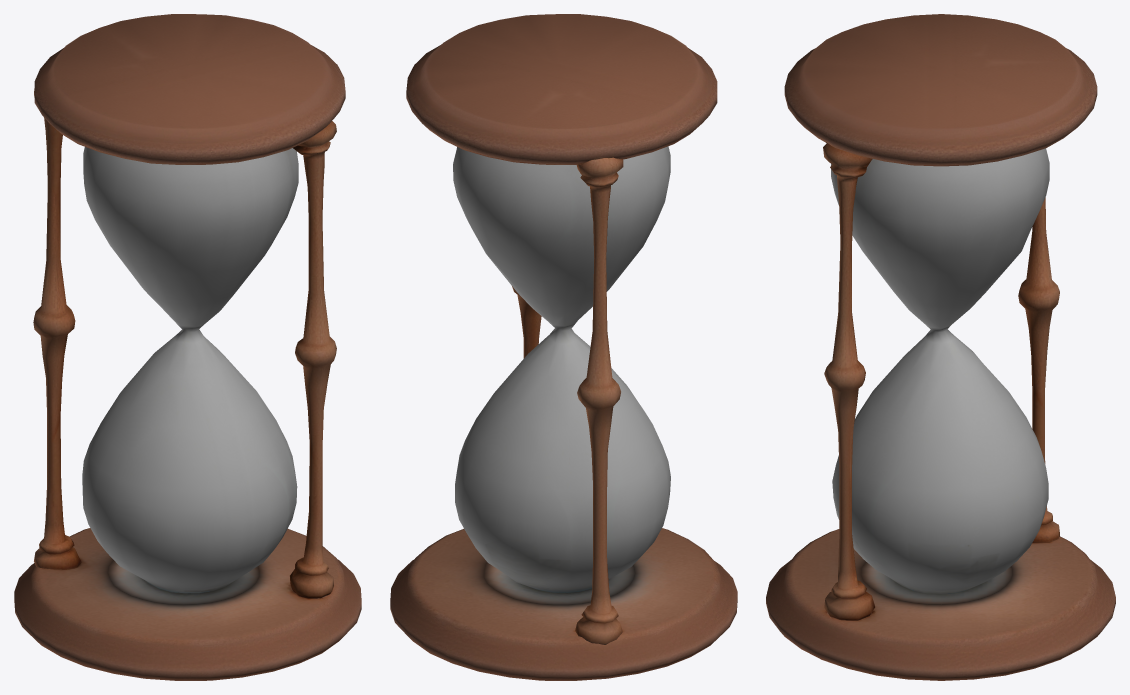
The model's file is tile22.glb.
3 views of the same model, side by side, from view 1: azimuth 30°, elevation 25°; view 2: azimuth 150°, elevation 25°; view 3: azimuth 270°, elevation 25° (orthographic).
Parts seen in each view (by area): view 1: tripo_node_10453fcc-84c8-416e-a4ee-4f4936f0e11d; view 2: tripo_node_10453fcc-84c8-416e-a4ee-4f4936f0e11d; view 3: tripo_node_10453fcc-84c8-416e-a4ee-4f4936f0e11d.
Part boxes in pixels (bbox=[...]): tripo_node_10453fcc-84c8-416e-a4ee-4f4936f0e11d: bbox=[14, 14, 361, 680]; tripo_node_10453fcc-84c8-416e-a4ee-4f4936f0e11d: bbox=[390, 14, 737, 680]; tripo_node_10453fcc-84c8-416e-a4ee-4f4936f0e11d: bbox=[766, 14, 1115, 680].
Bounding box in the file's own units: 1.87 × 3.17 × 1.87.
1 material, 1 textured.
